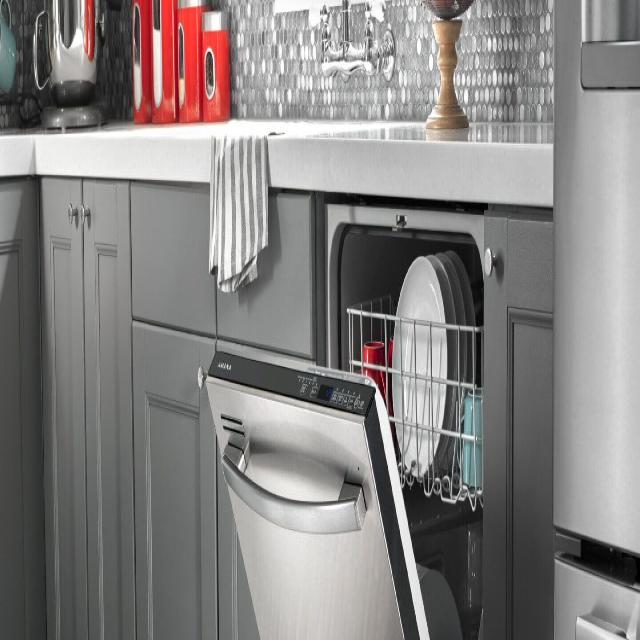dishwasher: (202, 162, 501, 640)
